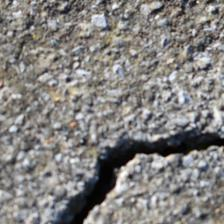Crack: (28, 65, 190, 158)
